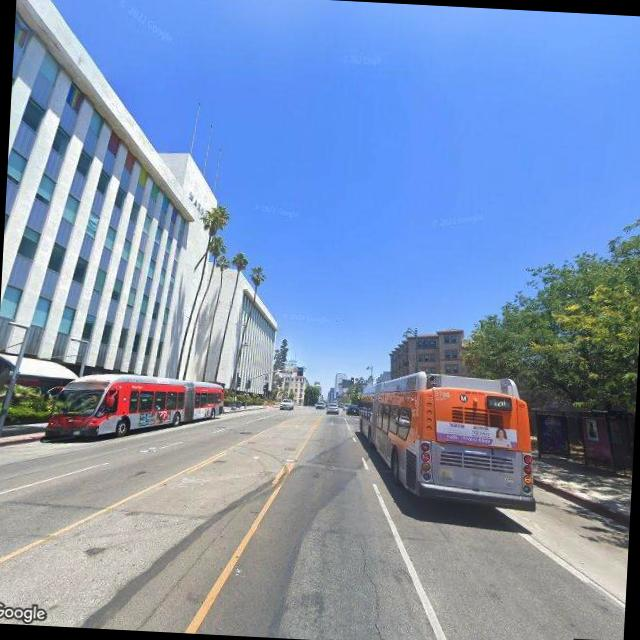pothole: (350, 535, 395, 640)
